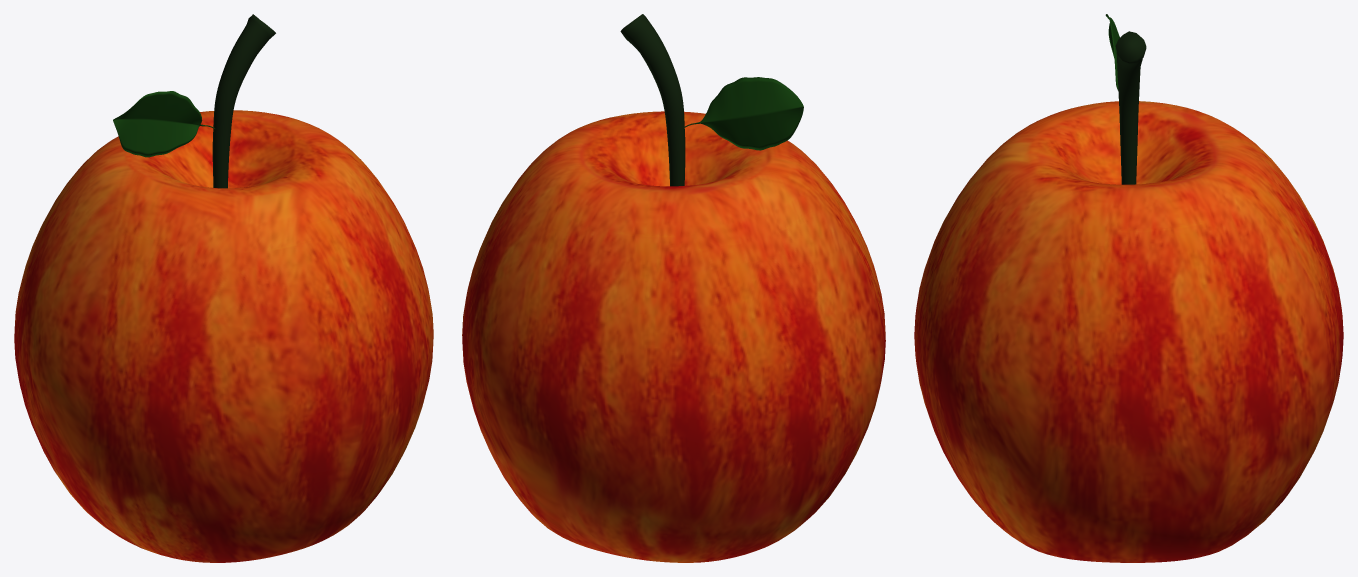
File: apple.glb
3 renders of one model, left to right at view 1: azimuth 30°, elevation 25°; view 2: azimuth 150°, elevation 25°; view 3: azimuth 270°, elevation 25°, orthographic. The views are drawn at different scales.
Visible parts, largest first — view 1: apple; view 2: apple; view 3: apple.
Boxes of the visible parts, left/top/right/bottom form: apple: left=14, top=14, right=433, bottom=562; apple: left=462, top=14, right=885, bottom=562; apple: left=914, top=14, right=1343, bottom=562.
Size of the model in its own units: 1.97 by 2.55 by 1.97.
Materials: 3 (1 with a texture image).
